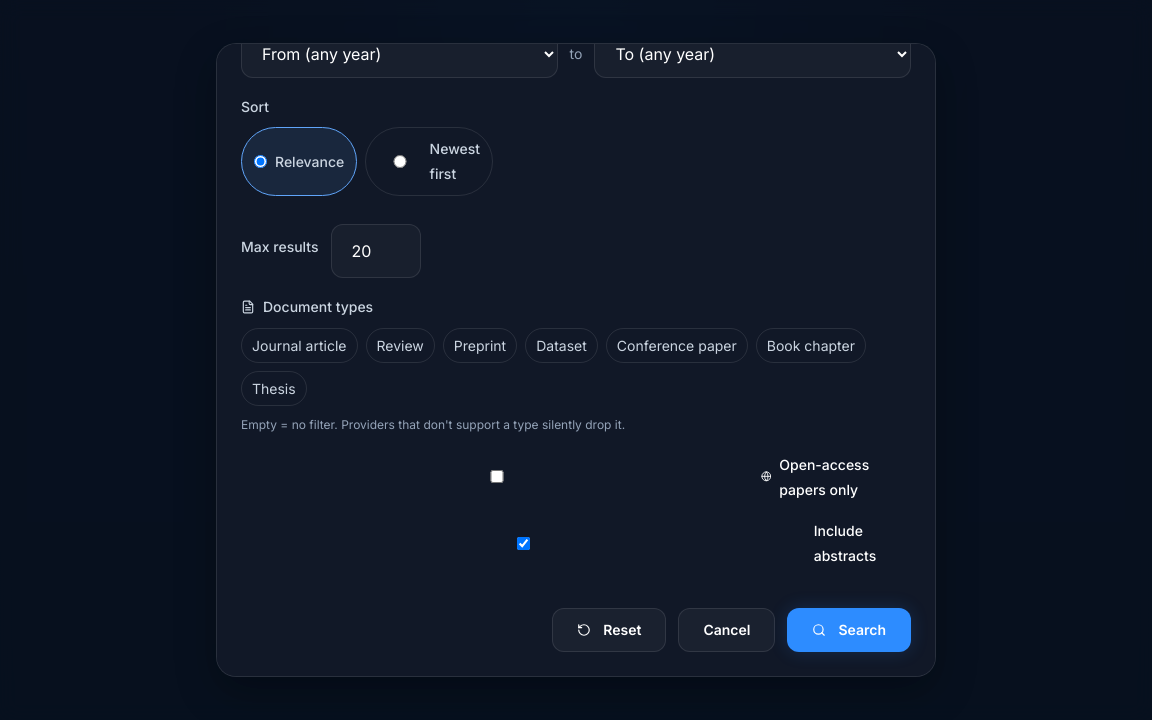
Test: AdvancedSearchModal › submit › disables the submit button while a search is in flight
(page scrolled)
Click the button "Search": (849, 630) 788,608 -> 911,652
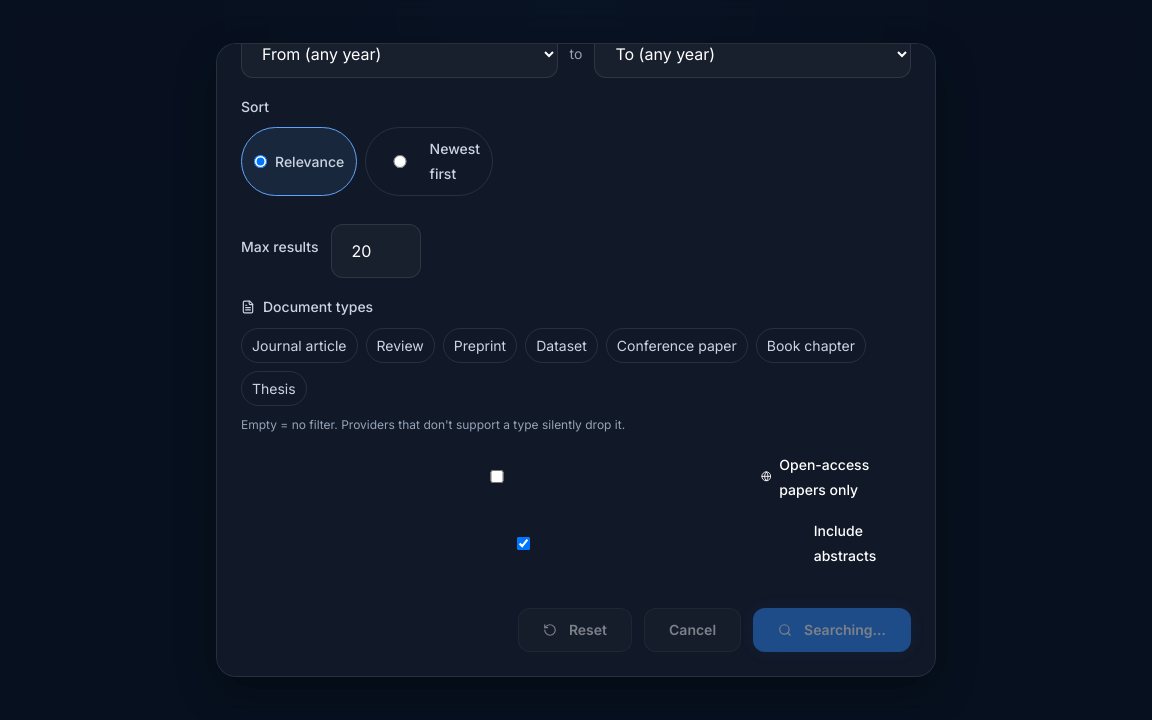
expect the button "Searching…" is disabled: met, box 753,608 -> 911,652
